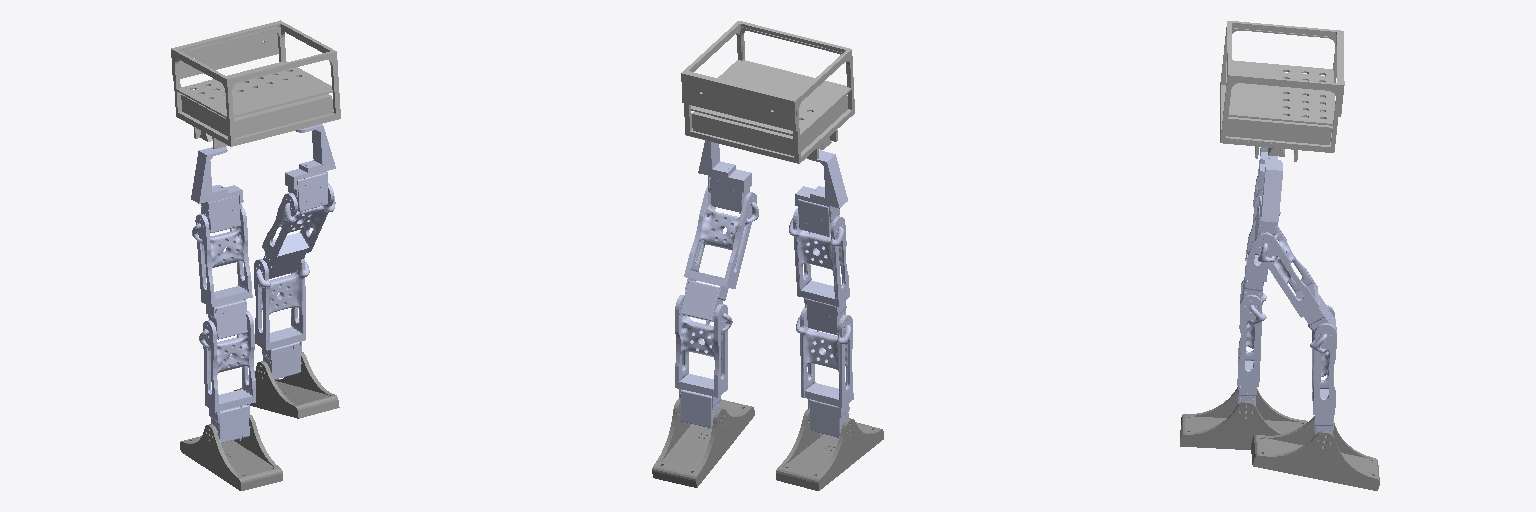
The robot description file, URDF, robot "biped_ab":
<?xml version="1.0" encoding="utf-8"?>
<!-- This URDF was automatically created by SolidWorks to URDF Exporter! Originally created by Stephen Brawner (brawner@gmail.com) 
     Commit Version: 1.6.0-4-g7f85cfe  Build Version: 1.6.7995.38578
     For more information, please see http://wiki.ros.org/sw_urdf_exporter -->
<robot
  name="biped_ab">
  <link
    name="base_link">
    <inertial>
      <origin
        xyz="0.0627679994949339 -0.120701728364036 0.118390187178668"
        rpy="0 0 0" />
      <mass
        value="0.171395163597277" />
      <inertia
        ixx="8.15365300587951E-05"
        ixy="-3.8043709313984E-07"
        ixz="-5.60903798702702E-07"
        iyy="0.000195030559061584"
        iyz="-5.55463363232957E-06"
        izz="0.000139361066214885" />
    </inertial>
    <visual>
      <origin
        xyz="0 0 0"
        rpy="0 0 0" />
      <geometry>
        <mesh
          filename="package://biped_ab/meshes/base_link.STL" />
      </geometry>
      <material
        name="">
        <color
          rgba="0.792156862745098 0.819607843137255 0.933333333333333 1" />
      </material>
    </visual>
    <collision>
      <origin
        xyz="0 0 0"
        rpy="0 0 0" />
      <geometry>
        <mesh
          filename="package://biped_ab/meshes/base_link.STL" />
      </geometry>
    </collision>
  </link>
  <link
    name="ll1">
    <inertial>
      <origin
        xyz="0.0171783023443789 -0.0361498271862186 -0.0473719862653818"
        rpy="0 0 0" />
      <mass
        value="0.0567619776679607" />
      <inertia
        ixx="1.39565566149837E-05"
        ixy="-4.27357374186608E-07"
        ixz="-1.31150725972983E-06"
        iyy="2.15422046399649E-05"
        iyz="-1.04881080911904E-06"
        izz="1.15720621143436E-05" />
    </inertial>
    <visual>
      <origin
        xyz="0 0 0"
        rpy="0 0 0" />
      <geometry>
        <mesh
          filename="package://biped_ab/meshes/ll1.STL" />
      </geometry>
      <material
        name="">
        <color
          rgba="0.792156862745098 0.819607843137255 0.933333333333333 1" />
      </material>
    </visual>
    <collision>
      <origin
        xyz="0 0 0"
        rpy="0 0 0" />
      <geometry>
        <mesh
          filename="package://biped_ab/meshes/ll1.STL" />
      </geometry>
    </collision>
  </link>
  <joint
    name="cont1"
    type="revolute">
    <origin
      xyz="0.110038954635169 -0.0909144176910569 0.115414106258842"
      rpy="0 -0.00545717187650538 0" />
    <parent
      link="base_link" />
    <child
      link="ll1" />
    <axis
      xyz="0 1 0" />
    <limit
      lower="-2"
      upper="2"
      effort="5"
      velocity="1.6" />
  </joint>
  <link
    name="ll2">
    <inertial>
      <origin
        xyz="0.103549079017341 -0.0205394581648996 -0.0281541630568518"
        rpy="0 0 0" />
      <mass
        value="0.0795029659020738" />
      <inertia
        ixx="3.92910139443189E-05"
        ixy="5.63190934250085E-06"
        ixz="1.7654229543114E-05"
        iyy="4.86462440319264E-05"
        iyz="2.61796913445426E-06"
        izz="5.77024189169343E-05" />
    </inertial>
    <visual>
      <origin
        xyz="0 0 0"
        rpy="0 0 0" />
      <geometry>
        <mesh
          filename="package://biped_ab/meshes/ll2.STL" />
      </geometry>
      <material
        name="">
        <color
          rgba="0.792156862745098 0.819607843137255 0.933333333333333 1" />
      </material>
    </visual>
    <collision>
      <origin
        xyz="0 0 0"
        rpy="0 0 0" />
      <geometry>
        <mesh
          filename="package://biped_ab/meshes/ll2.STL" />
      </geometry>
    </collision>
  </link>
  <joint
    name="cont2"
    type="revolute">
    <origin
      xyz="0.0239999999999984 -0.0324493212037191 -0.0369781242816673"
      rpy="2.32915725064946 1.57079631189374 0.509524754260505" />
    <parent
      link="ll1" />
    <child
      link="ll2" />
    <axis
      xyz="1 0 0" />
    <limit
      lower="-2"
      upper="2"
      effort="5"
      velocity="1.6" />
  </joint>
  <link
    name="ll3">
    <inertial>
      <origin
        xyz="0.140666030643059 0.0270231079667057 0.0500063411660512"
        rpy="0 0 0" />
      <mass
        value="0.0795050014476073" />
      <inertia
        ixx="2.80908282137304E-05"
        ixy="-2.0873333480242E-07"
        ixz="1.90180306641402E-06"
        iyy="4.96780037376502E-05"
        iyz="5.89589606915827E-06"
        izz="6.78707430017787E-05" />
    </inertial>
    <visual>
      <origin
        xyz="0 0 0"
        rpy="0 0 0" />
      <geometry>
        <mesh
          filename="package://biped_ab/meshes/ll3.STL" />
      </geometry>
      <material
        name="">
        <color
          rgba="0.792156862745098 0.819607843137255 0.933333333333333 1" />
      </material>
    </visual>
    <collision>
      <origin
        xyz="0 0 0"
        rpy="0 0 0" />
      <geometry>
        <mesh
          filename="package://biped_ab/meshes/ll3.STL" />
      </geometry>
    </collision>
  </link>
  <joint
    name="cont3"
    type="revolute">
    <origin
      xyz="0.0895029778776613 0 0.00144799409181519"
      rpy="-3.14159265358979 0.0437737865520778 0" />
    <parent
      link="ll2" />
    <child
      link="ll3" />
    <axis
      xyz="0 1 0" />
    <limit
      lower="-2"
      upper="2"
      effort="5"
      velocity="1.6" />
  </joint>
  <link
    name="ll4">
    <inertial>
      <origin
        xyz="0.0991857622836733 0.0233913899164539 0.0334257415160589"
        rpy="0 0 0" />
      <mass
        value="0.144582107490847" />
      <inertia
        ixx="0.000251979326186154"
        ixy="-1.75099711930262E-05"
        ixz="-5.97521810663757E-05"
        iyy="0.000225480260642662"
        iyz="-4.32810518299243E-05"
        izz="9.53838179679248E-05" />
    </inertial>
    <visual>
      <origin
        xyz="0 0 0"
        rpy="0 0 0" />
      <geometry>
        <mesh
          filename="package://biped_ab/meshes/ll4.STL" />
      </geometry>
      <material
        name="">
        <color
          rgba="0.627450980392157 0.627450980392157 0.627450980392157 1" />
      </material>
    </visual>
    <collision>
      <origin
        xyz="0 0 0"
        rpy="0 0 0" />
      <geometry>
        <mesh
          filename="package://biped_ab/meshes/ll4.STL" />
      </geometry>
    </collision>
  </link>
  <joint
    name="cont4"
    type="revolute">
    <origin
      xyz="0.132403980397021 0 0.000947994091815355"
      rpy="0 -0.0441531718405978 0" />
    <parent
      link="ll3" />
    <child
      link="ll4" />
    <axis
      xyz="0 1 0" />
    <limit
      lower="-2"
      upper="2"
      effort="5"
      velocity="1.6" />
  </joint>
  <link
    name="rf1">
    <inertial>
      <origin
        xyz="-0.00755320774709644 0.0350228492921957 -0.0486303315240782"
        rpy="0 0 0" />
      <mass
        value="0.0567619776679608" />
      <inertia
        ixx="1.38859315558231E-05"
        ixy="2.27971644486845E-07"
        ixz="-1.38554215446545E-06"
        iyy="2.15606807203303E-05"
        iyz="1.00556606883407E-06"
        izz="1.16242110931389E-05" />
    </inertial>
    <visual>
      <origin
        xyz="0 0 0"
        rpy="0 0 0" />
      <geometry>
        <mesh
          filename="package://biped_ab/meshes/rf1.STL" />
      </geometry>
      <material
        name="">
        <color
          rgba="0.792156862745098 0.819607843137255 0.933333333333333 1" />
      </material>
    </visual>
    <collision>
      <origin
        xyz="0 0 0"
        rpy="0 0 0" />
      <geometry>
        <mesh
          filename="package://biped_ab/meshes/rf1.STL" />
      </geometry>
    </collision>
  </link>
  <joint
    name="cont5"
    type="revolute">
    <origin
      xyz="-0.00806104536482806 -0.0909144176910567 0.115414106258843"
      rpy="0 -0.00730289100869343 3.14159265358979" />
    <parent
      link="base_link" />
    <child
      link="rf1" />
    <axis
      xyz="0 1 0" />
    <limit
      lower="-2"
      upper="2"
      effort="5"
      velocity="1.6" />
  </joint>
  <link
    name="rf2">
    <inertial>
      <origin
        xyz="0.11540043179939 -0.0376238350796424 -0.0156001202625212"
        rpy="0 0 0" />
      <mass
        value="0.0795039655212341" />
      <inertia
        ixx="2.88332222000494E-05"
        ixy="9.39434368903839E-07"
        ixz="5.72776827871448E-06"
        iyy="4.79230445898013E-05"
        iyz="1.37251349707163E-07"
        izz="6.88825413404463E-05" />
    </inertial>
    <visual>
      <origin
        xyz="0 0 0"
        rpy="0 0 0" />
      <geometry>
        <mesh
          filename="package://biped_ab/meshes/rf2.STL" />
      </geometry>
      <material
        name="">
        <color
          rgba="0.792156862745098 0.819607843137255 0.933333333333333 1" />
      </material>
    </visual>
    <collision>
      <origin
        xyz="0 0 0"
        rpy="0 0 0" />
      <geometry>
        <mesh
          filename="package://biped_ab/meshes/rf2.STL" />
      </geometry>
    </collision>
  </link>
  <joint
    name="cont6"
    type="revolute">
    <origin
      xyz="0.0239999999999986 0.0300506787962816 -0.0365370865296178"
      rpy="-1.56981976460534 1.57079630572147 3.11555687140741" />
    <parent
      link="rf1" />
    <child
      link="rf2" />
    <axis
      xyz="1 0 0" />
    <limit
      lower="-2"
      upper="2"
      effort="5"
      velocity="1.6" />
  </joint>
  <link
    name="rf3">
    <inertial>
      <origin
        xyz="0.155250974652241 0.0390486652727043 0.0370894594273884"
        rpy="0 0 0" />
      <mass
        value="0.0795050257227758" />
      <inertia
        ixx="2.85330989780231E-05"
        ixy="-9.15840785306493E-07"
        ixz="-4.55864326505569E-06"
        iyy="4.79264241482644E-05"
        iyz="2.05884508714622E-07"
        izz="6.9179924553966E-05" />
    </inertial>
    <visual>
      <origin
        xyz="0 0 0"
        rpy="0 0 0" />
      <geometry>
        <mesh
          filename="package://biped_ab/meshes/rf3.STL" />
      </geometry>
      <material
        name="">
        <color
          rgba="0.792156862745098 0.819607843137255 0.933333333333333 1" />
      </material>
    </visual>
    <collision>
      <origin
        xyz="0 0 0"
        rpy="0 0 0" />
      <geometry>
        <mesh
          filename="package://biped_ab/meshes/rf3.STL" />
      </geometry>
    </collision>
  </link>
  <joint
    name="cont7"
    type="revolute">
    <origin
      xyz="0.08994401562971 0 0.00144799409181527"
      rpy="-3.14159265358979 -0.0624508296366413 0" />
    <parent
      link="rf2" />
    <child
      link="rf3" />
    <axis
      xyz="0 1 0" />
    <limit
      lower="-2"
      upper="2"
      effort="5"
      velocity="1.6" />
  </joint>
  <link
    name="rf4">
    <inertial>
      <origin
        xyz="0.115559425158252 0.0394490692764151 0.0397426131141088"
        rpy="0 0 0" />
      <mass
        value="0.144582107490847" />
      <inertia
        ixx="0.000271754790212108"
        ixy="4.19476010682333E-07"
        ixz="1.14513658994481E-05"
        iyy="0.000238524687661661"
        iyz="-2.42773506399403E-06"
        izz="6.25639269229725E-05" />
    </inertial>
    <visual>
      <origin
        xyz="0 0 0"
        rpy="0 0 0" />
      <geometry>
        <mesh
          filename="package://biped_ab/meshes/rf4.STL" />
      </geometry>
      <material
        name="">
        <color
          rgba="0.627450980392157 0.627450980392157 0.627450980392157 1" />
      </material>
    </visual>
    <collision>
      <origin
        xyz="0 0 0"
        rpy="0 0 0" />
      <geometry>
        <mesh
          filename="package://biped_ab/meshes/rf4.STL" />
      </geometry>
    </collision>
  </link>
  <joint
    name="cont8"
    type="revolute">
    <origin
      xyz="0.132403980397019 0 0.000947994091815521"
      rpy="0 -0.0594915261594807 0" />
    <parent
      link="rf3" />
    <child
      link="rf4" />
    <axis
      xyz="0 1 0" />
    <limit
      lower="-2"
      upper="2"
      effort="5"
      velocity="1.6" />
  </joint>
  <link
    name="box">
    <inertial>
      <origin
        xyz="-0.0688677456913595 0.0219477110981247 0.0583312662906894"
        rpy="0 0 0" />
      <mass
        value="0.612608964887326" />
      <inertia
        ixx="0.000910327254665648"
        ixy="-2.27991350048129E-06"
        ixz="1.60029178866034E-05"
        iyy="0.0012795561204698"
        iyz="-6.09825581298704E-05"
        izz="0.00185757231514542" />
    </inertial>
    <visual>
      <origin
        xyz="0 0 0"
        rpy="0 0 0" />
      <geometry>
        <mesh
          filename="package://biped_ab/meshes/box.STL" />
      </geometry>
      <material
        name="">
        <color
          rgba="0.752941176470588 0.752941176470588 0.752941176470588 1" />
      </material>
    </visual>
    <collision>
      <origin
        xyz="0 0 0"
        rpy="0 0 0" />
      <geometry>
        <mesh
          filename="package://biped_ab/meshes/box.STL" />
      </geometry>
    </collision>
  </link>
  <joint
    name="fix_f"
    type="fixed">
    <origin
      xyz="-0.00806104536482806 -0.0909144176910567 0.115414106258843"
      rpy="0 -0.00730289100869343 3.14159265358979" />
    <parent
      link="base_link" />
    <child
      link="box" />
    <axis
      xyz="0 0 0" />
  </joint>
</robot>

--- Render facts (derived) ---
Views: 3 orthographic renders of the robot side by side, from view 1: azimuth 30°, elevation 25°; view 2: azimuth 150°, elevation 25°; view 3: azimuth 270°, elevation 25°.
Model biped_ab with 10 links and 9 joints (8 revolute, 1 fixed), rooted at base_link, posed all joints at 0.
Visible links, largest first — view 1: box, rf2, rf3, ll3, rf4, ll2, ll4, rf1, ll1; view 2: box, ll2, ll3, rf3, ll4, rf2, rf4, rf1, ll1; view 3: box, ll4, rf4, ll2, ll3, rf3, ll1, rf2.
Link boxes in pixels (left/top/right/bottom): box: left=171, top=20, right=340, bottom=148; rf2: left=192, top=206, right=252, bottom=339; rf3: left=199, top=311, right=255, bottom=442; ll3: left=254, top=259, right=309, bottom=379; rf4: left=180, top=415, right=282, bottom=490; ll2: left=262, top=183, right=335, bottom=278; ll4: left=234, top=352, right=339, bottom=418; rf1: left=191, top=147, right=243, bottom=232; ll1: left=285, top=124, right=335, bottom=214; box: left=681, top=21, right=854, bottom=163; ll2: left=681, top=186, right=758, bottom=326; ll3: left=675, top=295, right=732, bottom=429; rf3: left=796, top=307, right=853, bottom=437; ll4: left=652, top=399, right=754, bottom=487; rf2: left=789, top=208, right=849, bottom=335; rf4: left=776, top=409, right=883, bottom=490; rf1: left=795, top=150, right=847, bottom=236; ll1: left=698, top=140, right=751, bottom=213; box: left=1220, top=21, right=1344, bottom=161; ll4: left=1251, top=416, right=1379, bottom=490; rf4: left=1180, top=387, right=1307, bottom=449; ll2: left=1253, top=217, right=1336, bottom=332; ll3: left=1308, top=305, right=1336, bottom=446; rf3: left=1237, top=280, right=1266, bottom=411; ll1: left=1255, top=158, right=1282, bottom=237; rf2: left=1242, top=176, right=1280, bottom=298.
Bounding box of the posed robot: 0.1878 × 0.2266 × 0.521 m (x, y, z).
9 mesh visuals loaded from 10 distinct referenced files (9 binary STL); not drawn: 1 (reference not matched to a file when rendering).
